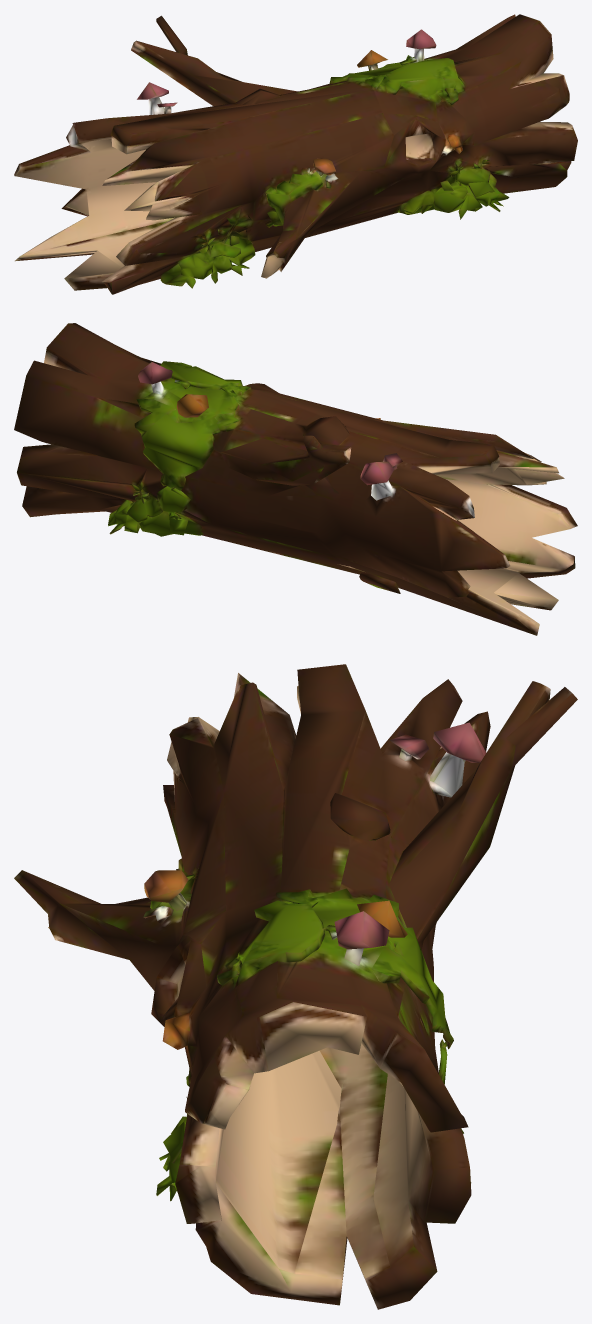
File: log-fallen-a.glb
3 views of the same model, one above another, from view 1: azimuth 30°, elevation 25°; view 2: azimuth 150°, elevation 25°; view 3: azimuth 270°, elevation 25° (orthographic). The views are drawn at different scales.
Parts seen in each view (by area): view 1: node_0; view 2: node_0; view 3: node_0.
Boxes of the visible parts, <box> form: node_0: <box>14,14,577,294</box>; node_0: <box>14,323,577,635</box>; node_0: <box>14,664,577,1309</box>.
Bounding box in the file's own units: 3 × 1.1 × 1.63.
1 material, 1 textured.
